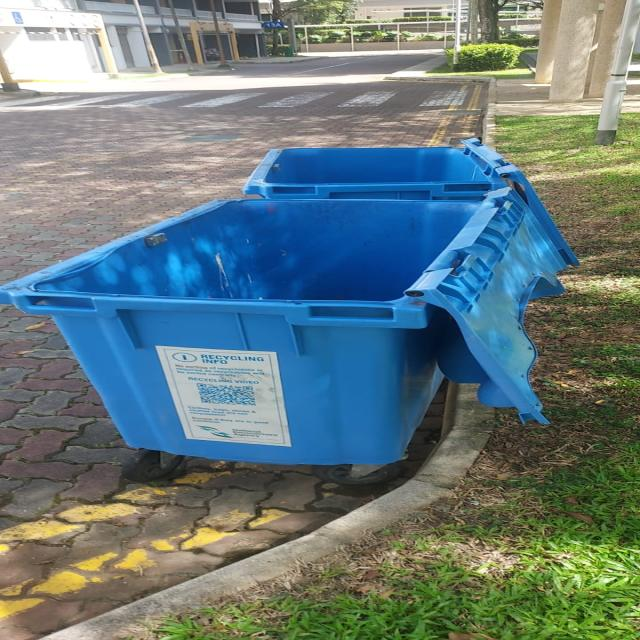bin_empty: (12, 201, 536, 465), (242, 146, 498, 200)
